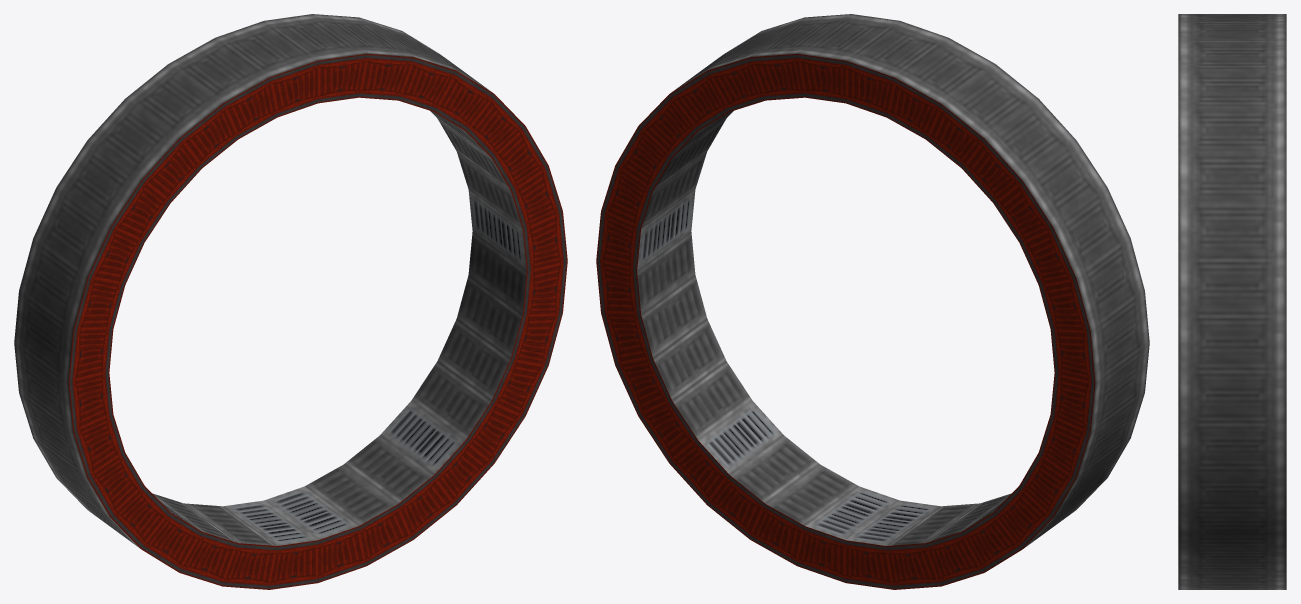
Rendered from ring.fbx.
3 renders of one model, left to right at view 1: azimuth 30°, elevation 25°; view 2: azimuth 150°, elevation 25°; view 3: azimuth 270°, elevation 25°, orthographic.
Parts seen in each view (by area): view 1: Ring; view 2: Ring; view 3: Ring.
Part boxes in pixels (box(x1,y1,x2,y2)): Ring: box(14, 14, 567, 589); Ring: box(596, 14, 1149, 589); Ring: box(1178, 14, 1286, 589).
Size of the model in its own units: 1062 by 1062 by 200.
Materials: 1 (1 with a texture image).
